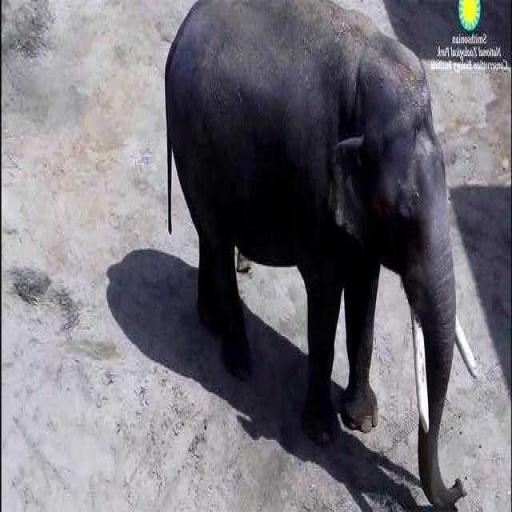Elephant: (163, 0, 478, 510)
